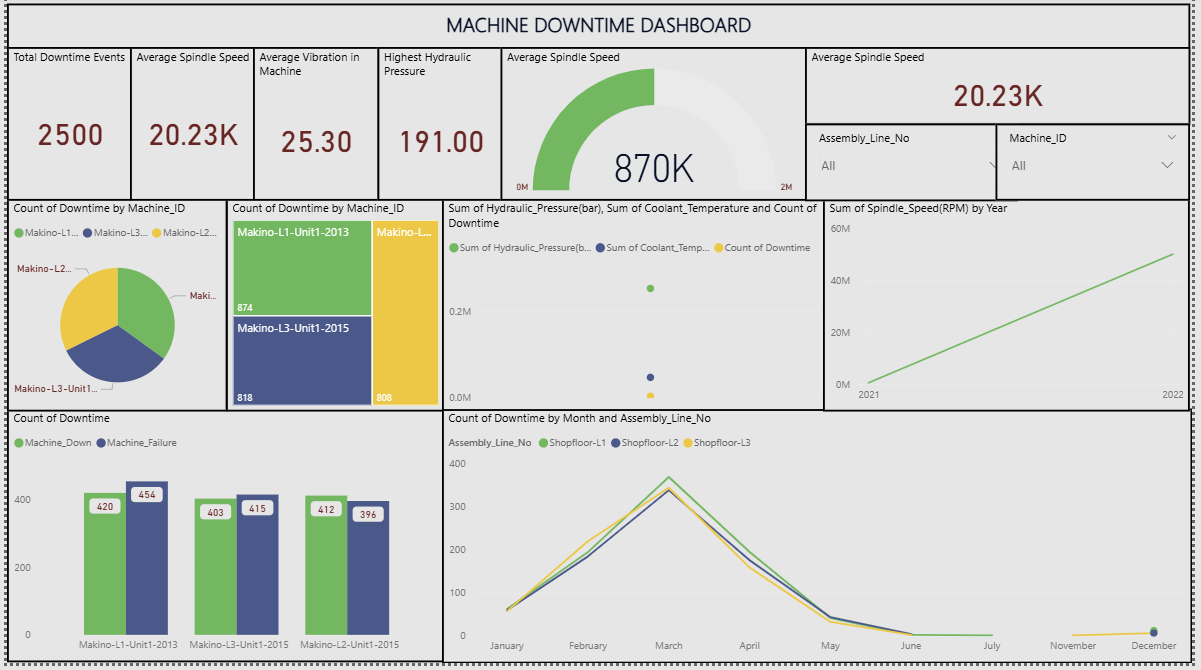

The page's visual inventory and layout, read from the dashboard file:
{"tool":"powerbi","page":{"name":"Page 1","canvas":[1280,720],"ordinal":0},"visuals":[{"type":"clusteredColumnChart","title":"Count of Downtime","fields":{"Category":["Machine Downtime.Machine_ID"],"Y":["CountNonNull(Machine Downtime.Downtime)"],"Series":["Machine Downtime.Downtime"]},"box":[0,446,472,274],"z":0},{"type":"pieChart","fields":{"Category":["Machine Downtime.Machine_ID"],"Y":["CountNonNull(Machine Downtime.Downtime)"]},"box":[0,218.6,237.9,230],"z":1000},{"type":"treemap","fields":{"Group":["Machine Downtime.Machine_ID"],"Values":["CountNonNull(Machine Downtime.Downtime)"]},"box":[235.7,218.6,236.4,230],"z":2000},{"type":"textbox","box":[0,7.5,1277.5,55],"z":3000},{"type":"areaChart","fields":{"Category":["Machine Downtime.Date.Variation.Date Hierarchy.Month"],"Series":["Machine Downtime.Assembly_Line_No"],"Y":["CountNonNull(Machine Downtime.Downtime)"]},"box":[470,445,810,275],"z":4000},{"type":"lineChart","fields":{"Y":["Sum(Machine Downtime.Hydraulic_Pressure(bar))","Sum(Machine Downtime.Coolant_Temperature)","CountNonNull(Machine Downtime.Downtime)"]},"box":[470,218.5,415.4,229.2],"z":5000},{"type":"lineChart","fields":{"Category":["Machine Downtime.Date.Variation.Date Hierarchy.Year"],"Y":["Sum(Machine Downtime.Spindle_Speed(RPM))"]},"box":[881.5,218.5,396.2,230],"z":6000},{"type":"card","title":"Total Downtime Events","fields":{"Values":["CountNonNull(Machine Downtime.Downtime)"]},"box":[0,55,136.2,166.2],"z":7000},{"type":"card","title":"Average Spindle Speed","fields":{"Values":["Avg(Machine Downtime.Spindle_Speed(RPM))"]},"box":[132.5,55,136.2,166.2],"z":8000},{"type":"card","title":"Average Vibration in Machine","fields":{"Values":["Avg(Machine Downtime.Tool_Vibration(µm))"]},"box":[266.2,55,136.2,166.2],"z":9000},{"type":"card","title":"Highest Hydraulic Pressure","fields":{"Values":["Max(Machine Downtime.Hydraulic_Pressure(bar))"]},"box":[400,55,136.2,166.2],"z":10000},{"type":"gauge","title":"Average Spindle Speed","fields":{"Y":["Sum(Machine Downtime.Voltage(volts))"]},"box":[532.5,55,331.2,166.2],"z":11000},{"type":"card","title":"Average Spindle Speed","fields":{"Values":["Avg(Machine Downtime.Spindle_Speed(RPM))"]},"box":[861.2,55,416.2,83.8],"z":12000},{"type":"slicer","title":"Average Spindle Speed","fields":{"Values":["Machine Downtime.Assembly_Line_No"]},"box":[861.2,137.5,230,83.8],"z":13000},{"type":"slicer","title":"Average Spindle Speed","fields":{"Values":["Machine Downtime.Machine_ID"]},"box":[1066.4,137.3,210,83.6],"z":14000}]}

Visuals, with their boxes in screenshot pixels (x1, y1, x2, y2), scaled from the page's 1280x720 canvas onto the 1201x670 screenshot:
"Count of Downtime" clusteredColumnChart: (0, 415, 443, 669)
pieChart - Machine Downtime.Machine_ID x CountNonNull(Machine Downtime.Downtime): (0, 203, 223, 417)
treemap - Machine Downtime.Machine_ID x CountNonNull(Machine Downtime.Downtime): (221, 203, 443, 417)
textbox: (0, 7, 1199, 58)
areaChart - Machine Downtime.Date.Variation.Date Hierarchy.Month x Machine Downtime.Assembly_Line_No: (441, 414, 1200, 669)
lineChart - Sum(Machine Downtime.Hydraulic_Pressure(bar)) x Sum(Machine Downtime.Coolant_Temperature): (441, 203, 831, 417)
lineChart - Machine Downtime.Date.Variation.Date Hierarchy.Year x Sum(Machine Downtime.Spindle_Speed(RPM)): (827, 203, 1199, 417)
"Total Downtime Events" card: (0, 51, 128, 206)
"Average Spindle Speed" card: (124, 51, 252, 206)
"Average Vibration in Machine" card: (250, 51, 378, 206)
"Highest Hydraulic Pressure" card: (375, 51, 503, 206)
"Average Spindle Speed" gauge: (500, 51, 810, 206)
"Average Spindle Speed" card: (808, 51, 1199, 129)
"Average Spindle Speed" slicer: (808, 128, 1024, 206)
"Average Spindle Speed" slicer: (1001, 128, 1198, 206)
